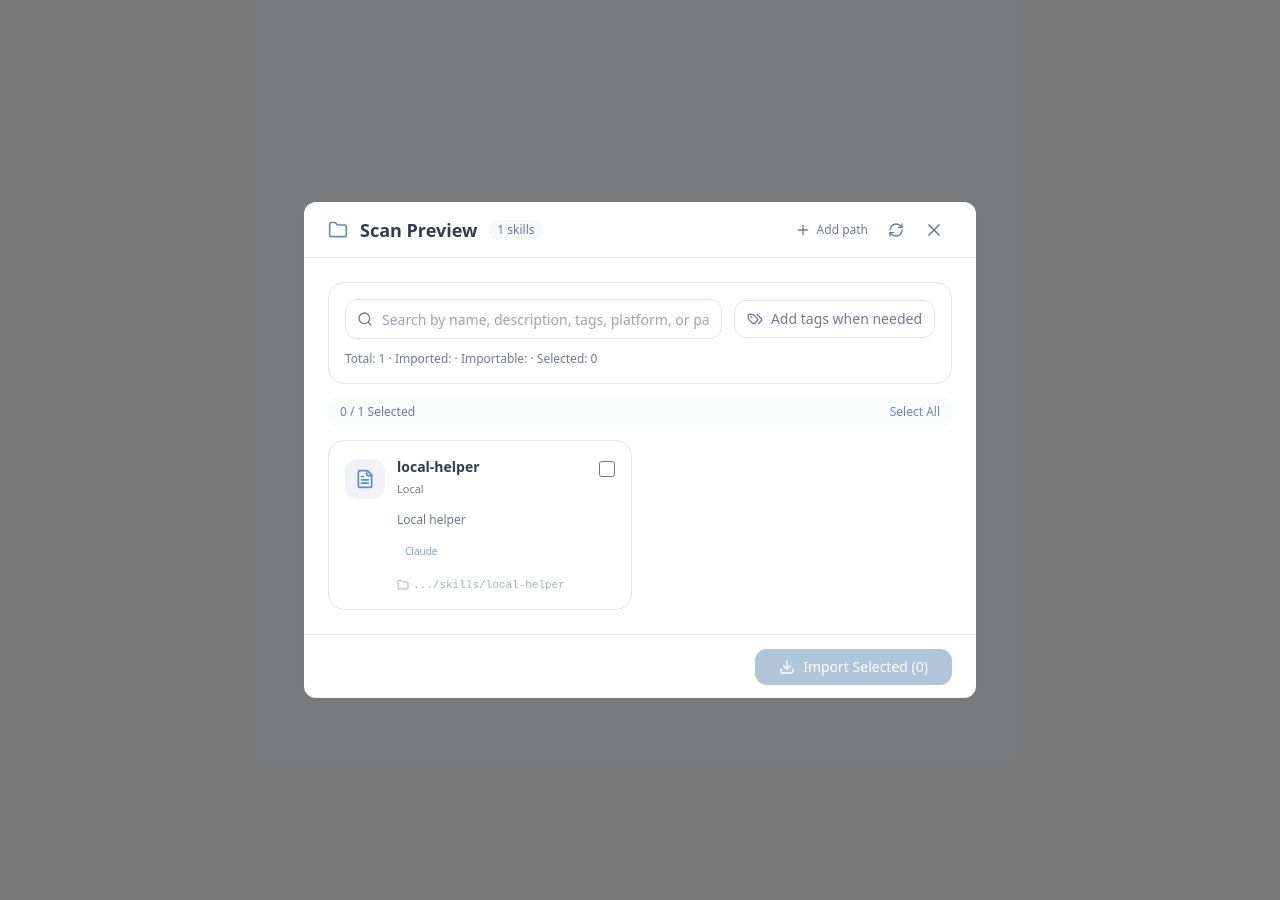
it: skill i18n smoke › exposes scan preview actions with stable button and icon semantics
Click the button "Add path": (831, 230) [787,214,876,246]
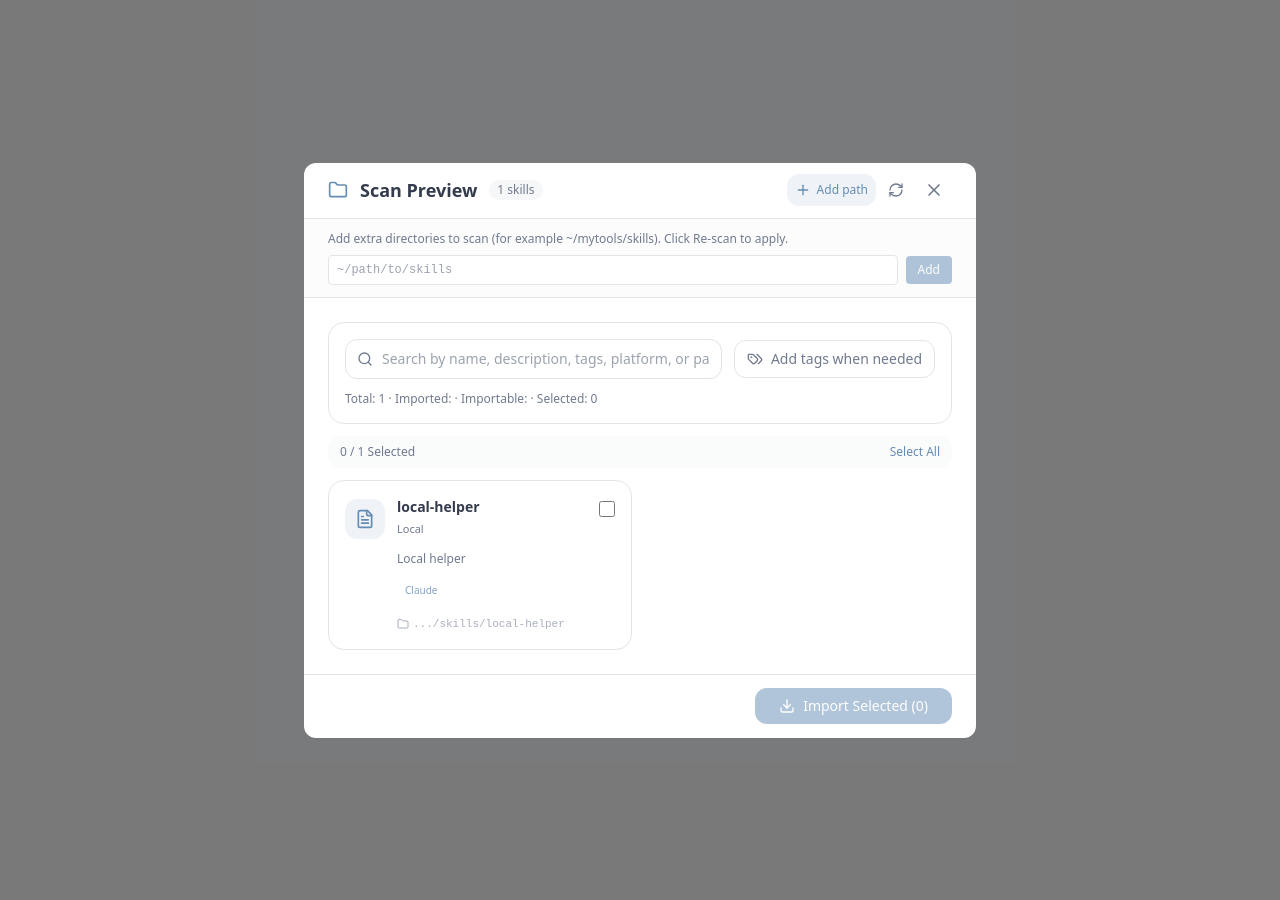
Expected: the button "Add path" is expanded, [787,174,876,206]
